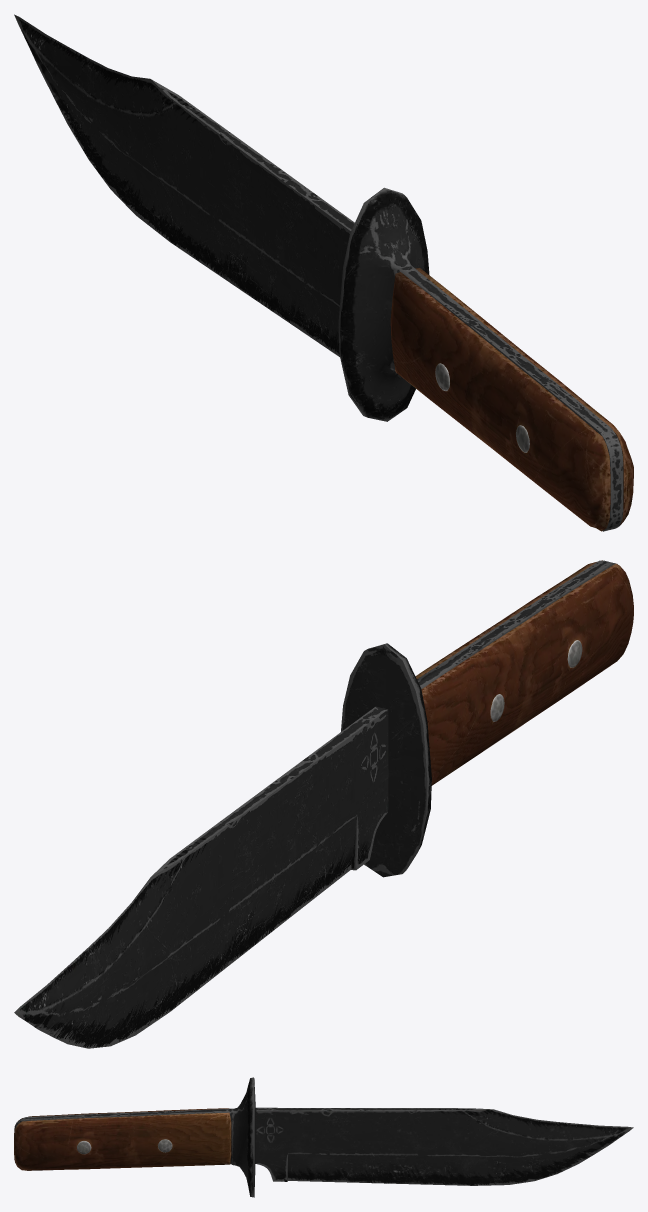
File: bayonet-1.glb
The picture shows the model from 3 angles, top to bottom: view 1: azimuth 30°, elevation 25°; view 2: azimuth 150°, elevation 25°; view 3: azimuth 270°, elevation 25°; orthographic projection. The views are drawn at different scales.
Parts seen in each view (by area): view 1: metal_blade_low__0, Wood_handle_low__0; view 2: metal_blade_low__0, Wood_handle_low__0; view 3: metal_blade_low__0, Wood_handle_low__0, steel_bolts_low__0.
Boxes of the visible parts, <box> form: metal_blade_low__0: <box>14,14,623,531</box>; Wood_handle_low__0: <box>390,268,633,531</box>; metal_blade_low__0: <box>14,560,617,1048</box>; Wood_handle_low__0: <box>415,560,633,785</box>; metal_blade_low__0: <box>14,1077,633,1197</box>; Wood_handle_low__0: <box>14,1108,231,1170</box>; steel_bolts_low__0: <box>77,1139,172,1154</box>.
Size of the model in its own units: 0.0365 by 0.0911 by 0.4285.
1 material, 1 textured.
